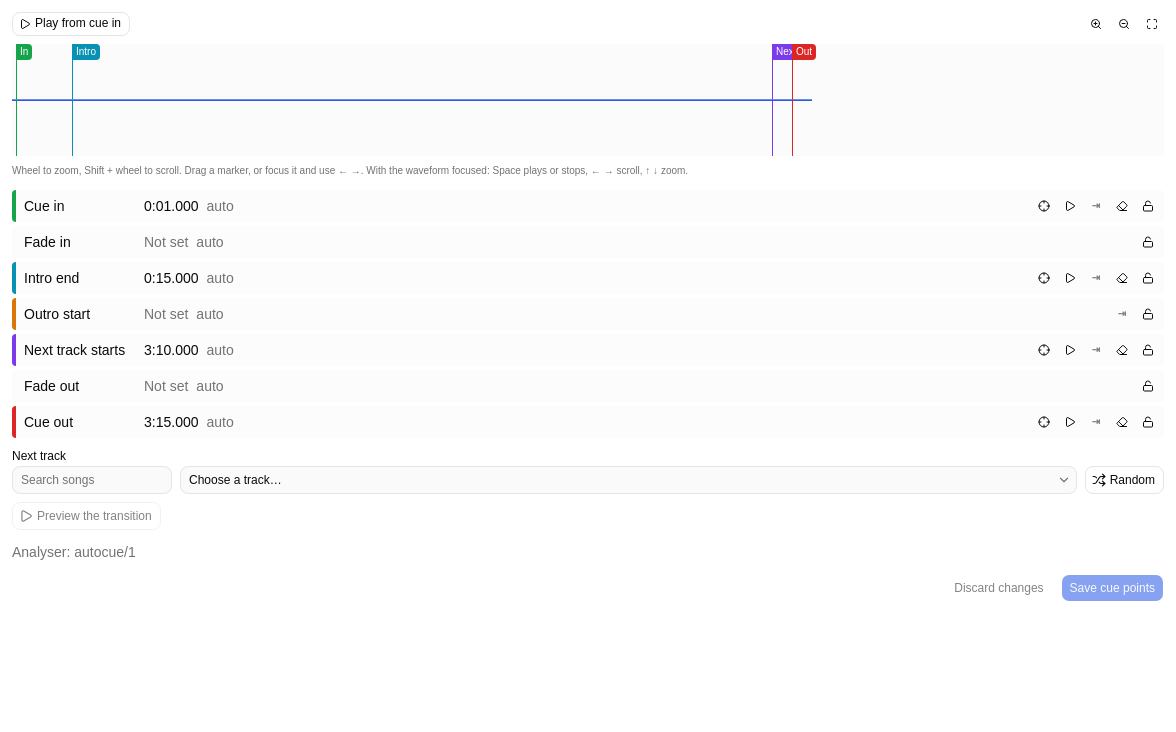
cue editor › says when a save fails, and keeps the draft
Press ArrowRight in the slider named "Cue in", box top-left (16, 44), bottom-right (32, 60)
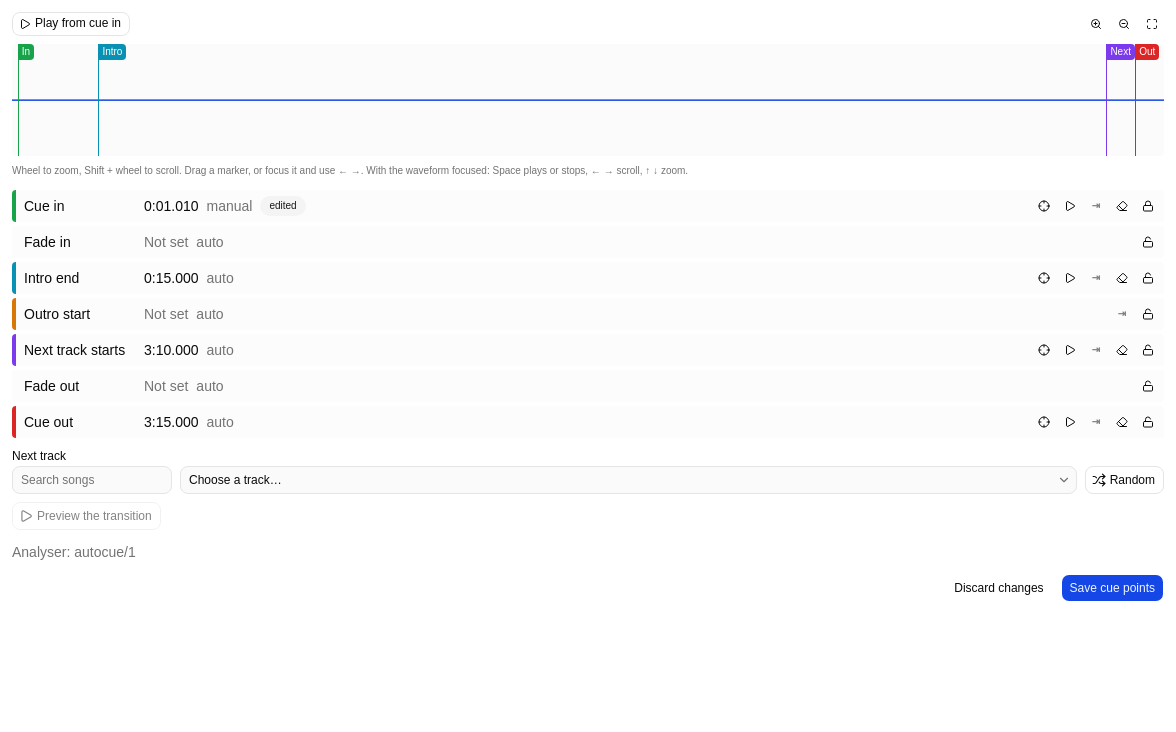
Click the button "Save cue points".
click(1112, 588)  # box top-left (1061, 574), bottom-right (1164, 602)
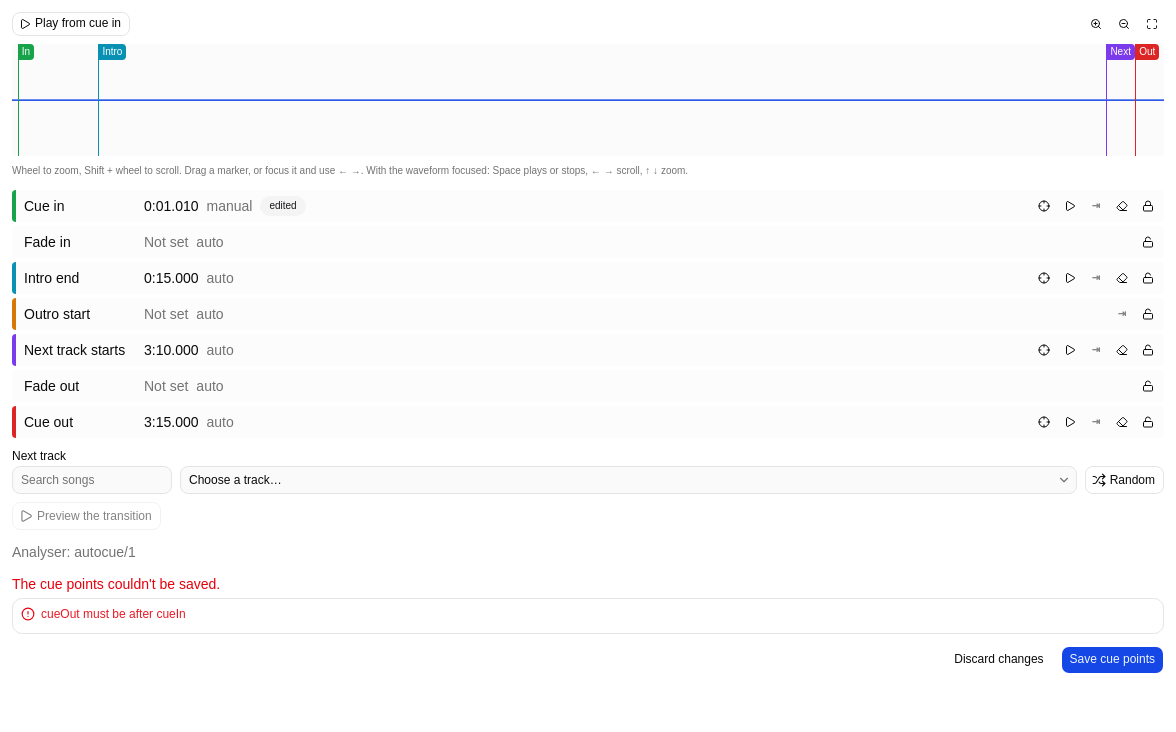
Expected: the icon "edited" is shown, top-left (260, 196), bottom-right (306, 216)
Expected: the button "Save cue points" is enabled, top-left (1061, 646), bottom-right (1164, 674)
Expected: the text "The cue points couldn't be saved." is shown, top-left (12, 576), bottom-right (220, 592)
